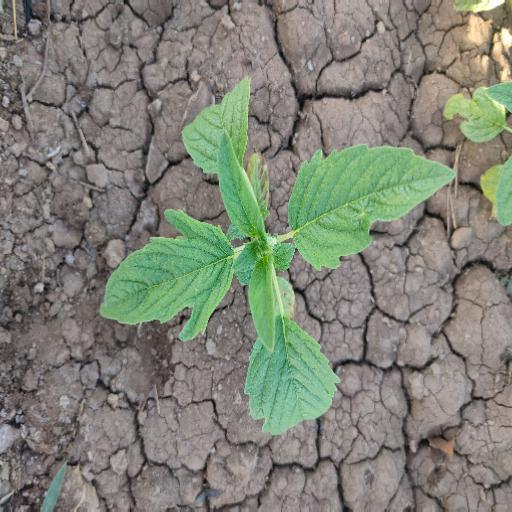crop: (93, 84, 460, 435)
